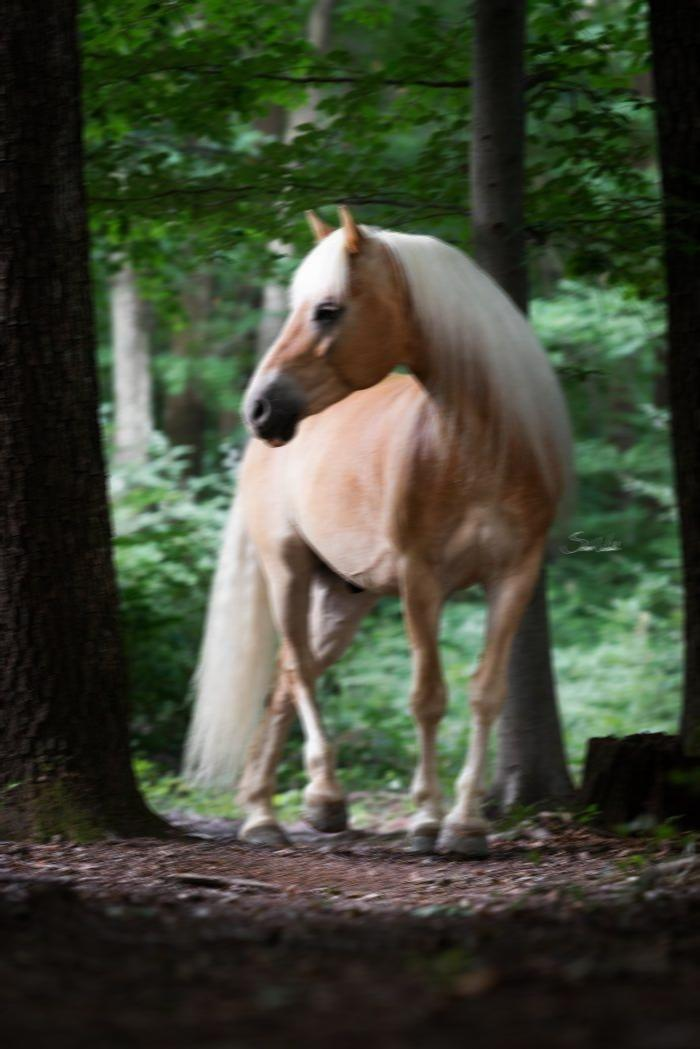horse: (178, 203, 578, 858)
